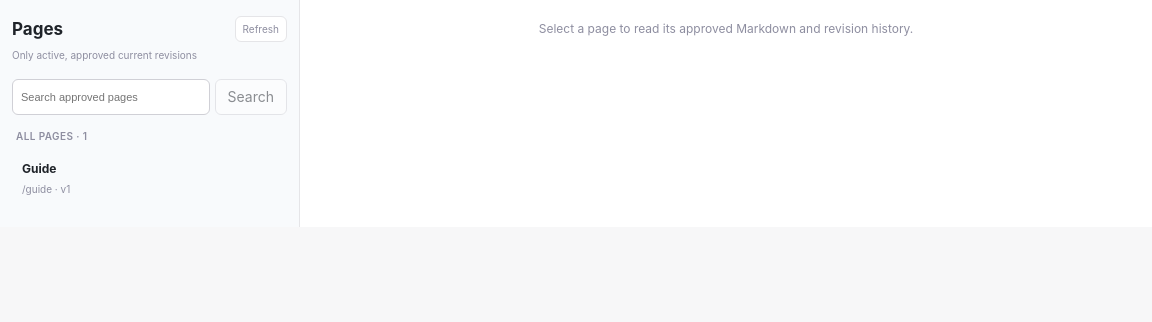
Wiki page, graph and approval views › renders approved Markdown with raw HTML disabled
Click the button with test id "wiki-page-row" at (39, 168), box x1=12 y1=150 x2=287 y2=206
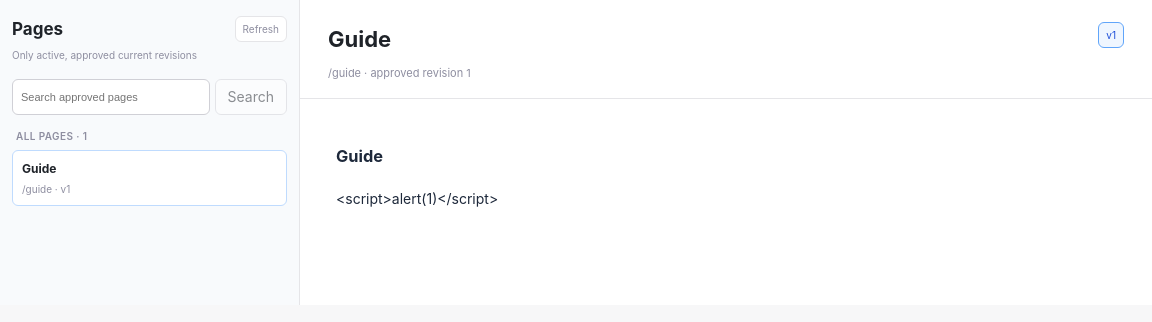
Check: the 2nd heading "Guide" is shown, box x1=336 y1=146 x2=383 y2=166
